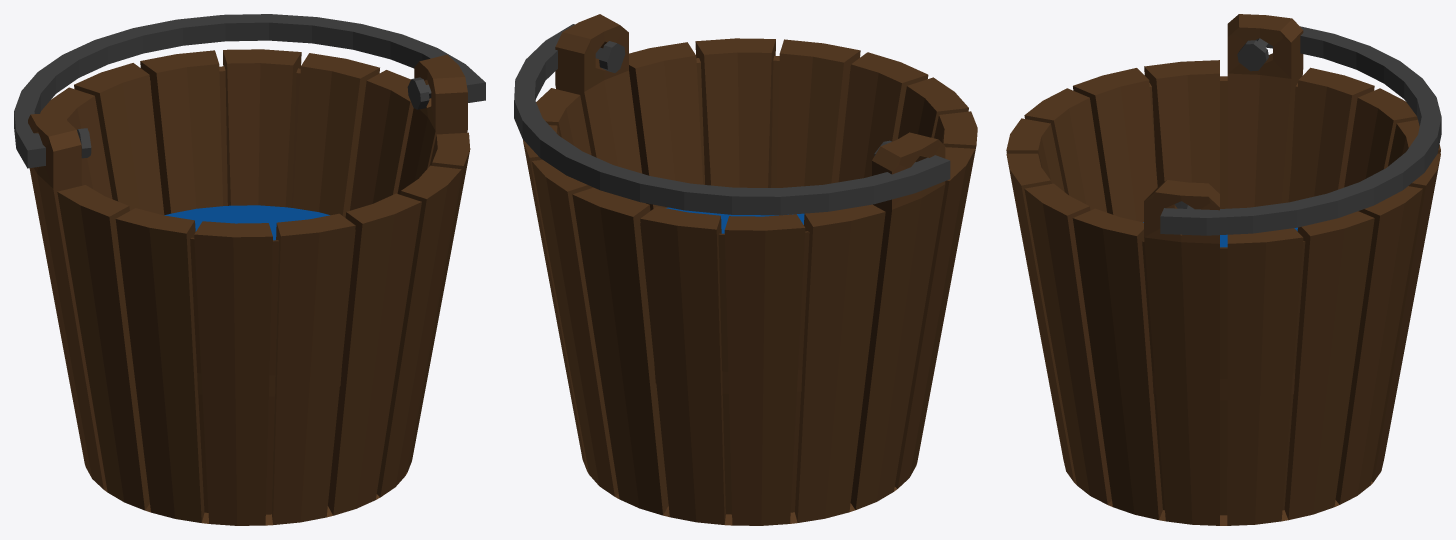
Rendered from Bucket.fbx.
The picture shows the model from 3 angles, left to right: view 1: azimuth 30°, elevation 25°; view 2: azimuth 150°, elevation 25°; view 3: azimuth 270°, elevation 25°; orthographic projection. The views are drawn at different scales.
Parts seen in each view (by area): view 1: Circle, Circle.001; view 2: Circle, Circle.001; view 3: Circle, Circle.001.
Boxes of the visible parts, bbox=[...] form: Circle: bbox=[28, 49, 470, 525]; Circle.001: bbox=[14, 14, 485, 168]; Circle: bbox=[523, 14, 977, 525]; Circle.001: bbox=[514, 24, 950, 215]; Circle: bbox=[1006, 14, 1440, 525]; Circle.001: bbox=[1160, 26, 1441, 235].
Size of the model in its own units: 281 by 233 by 260.
